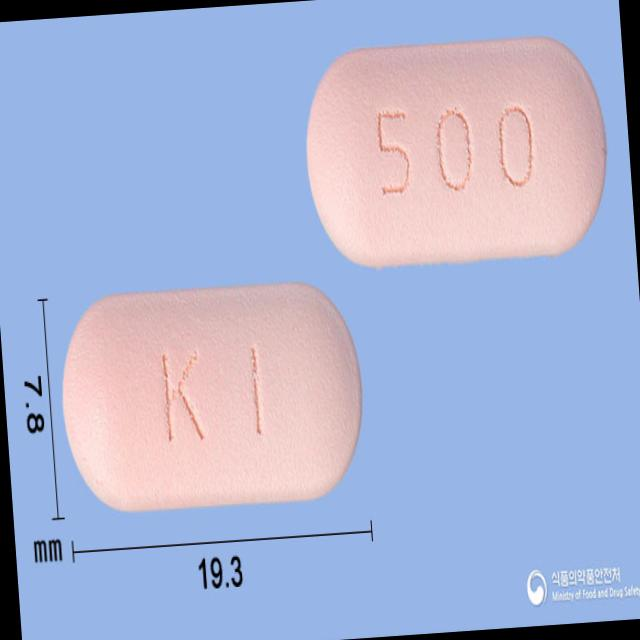Levogun - 500mg: (54, 274, 369, 520), (298, 29, 614, 270)
